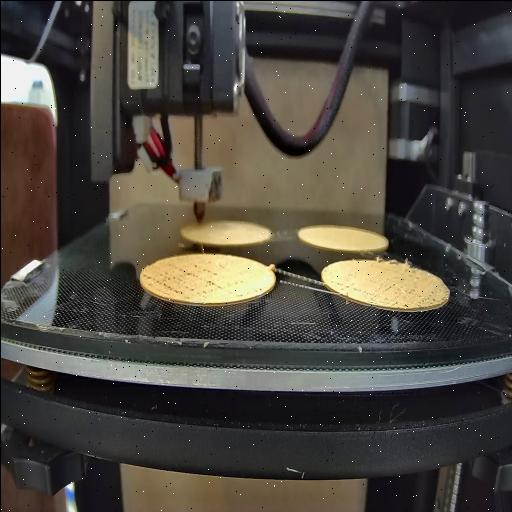under_extrusion: (142, 260, 220, 294), (384, 272, 434, 306), (233, 277, 264, 299), (330, 280, 362, 295)
